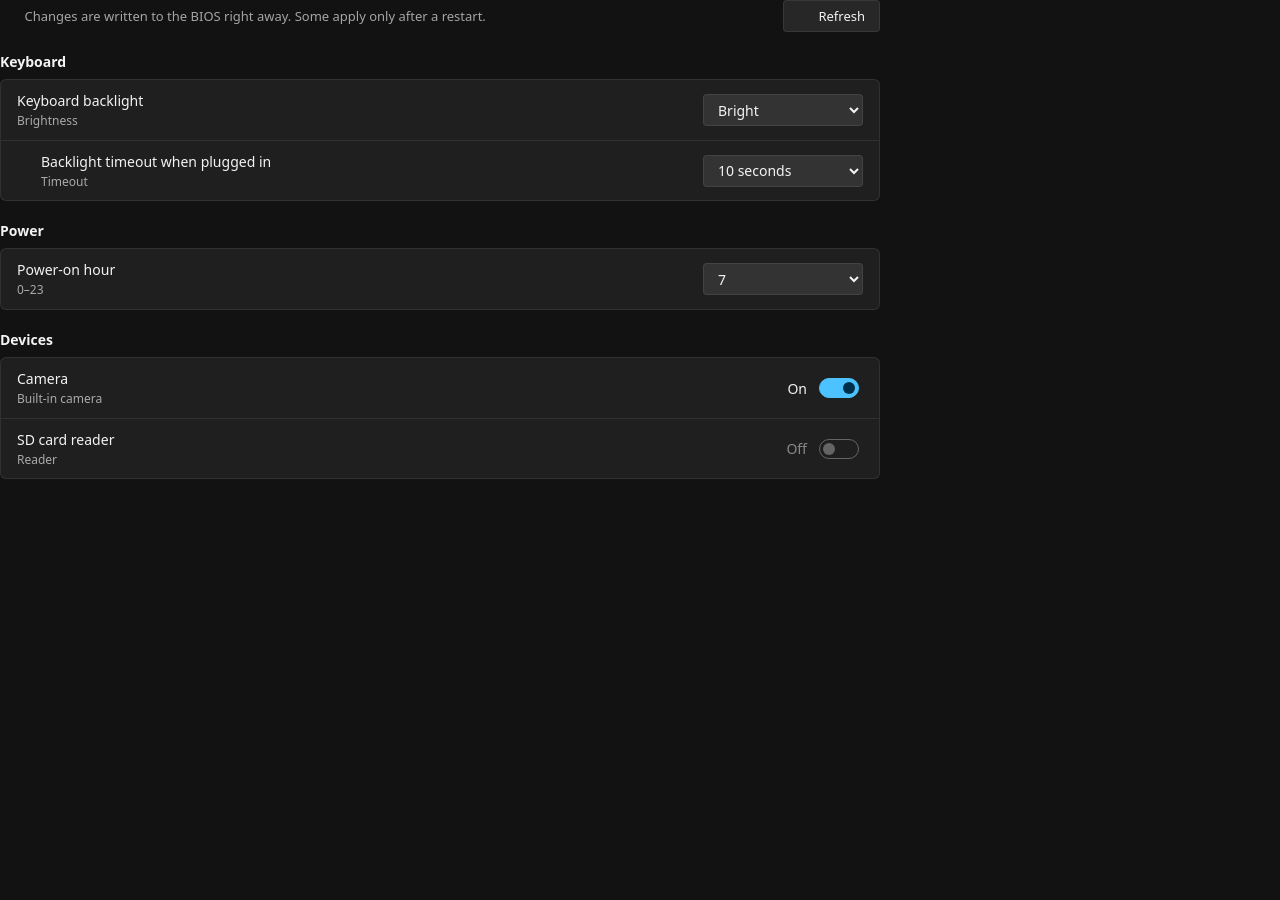
Scenario: BIOS page › a toggle asks first and writes only after confirming
What coordinates should you click on to do the following:
click the switch named "Camera"
I would click on:
 (823, 388)
Its box is [783, 374, 863, 402].
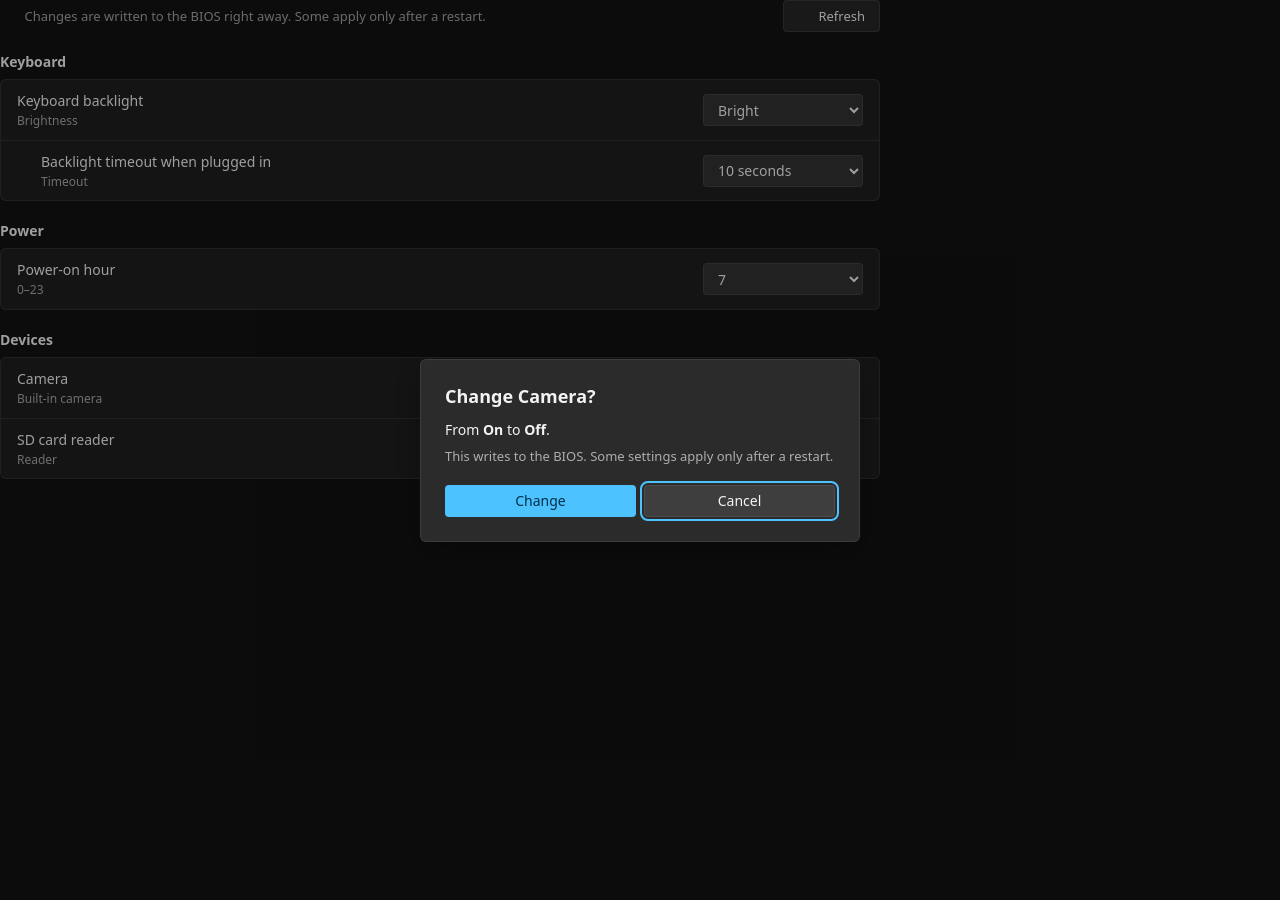
Now the dialog shows "Camera", box [445, 384, 596, 408]
Now the dialog shows "On", box [483, 420, 503, 438]
Now the dialog shows "Off", box [524, 420, 546, 438]
What coordinates should you click on to do the following:
click the button "Change"
I would click on:
 (540, 500)
Its box is [445, 484, 636, 516].
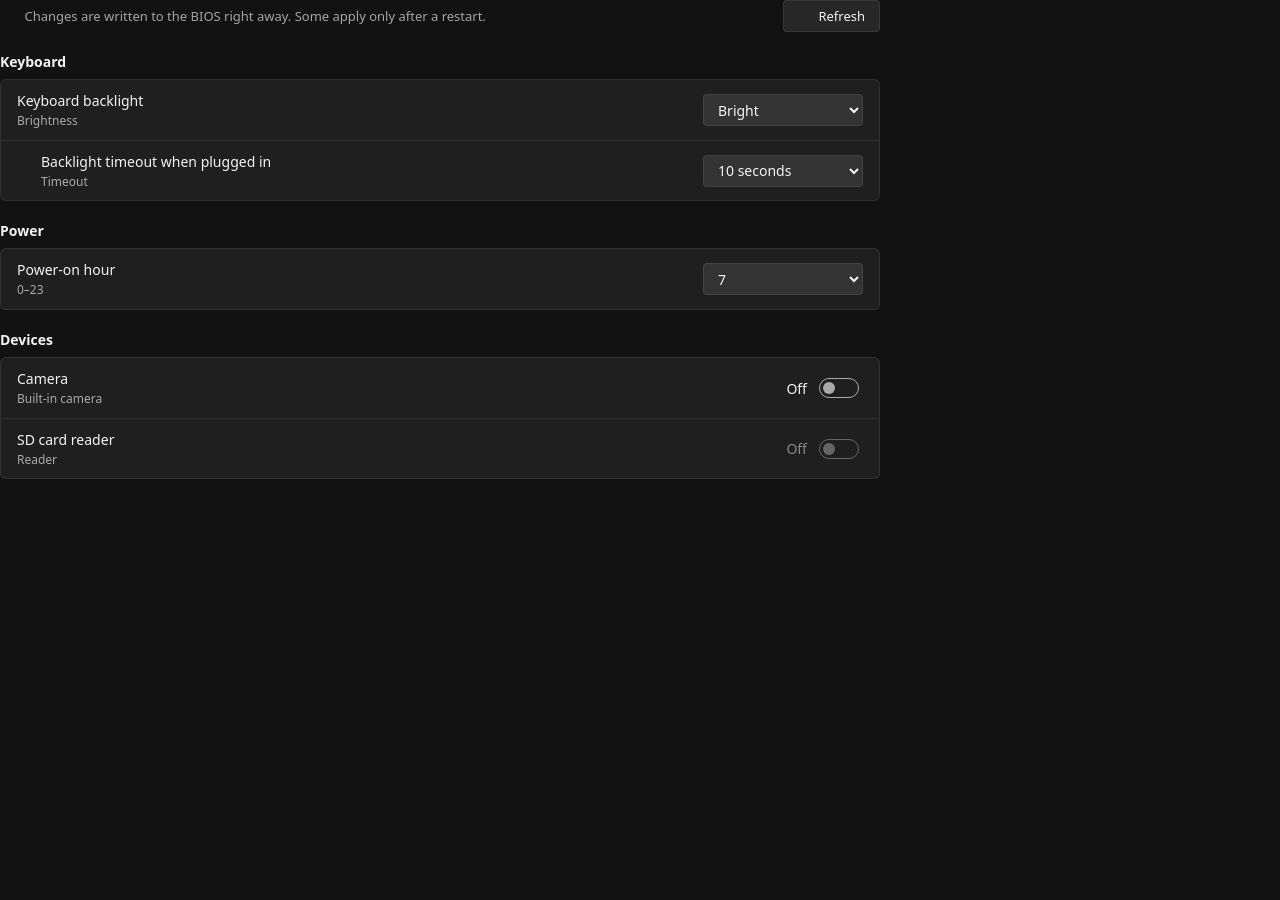
Now the dialog is gone
